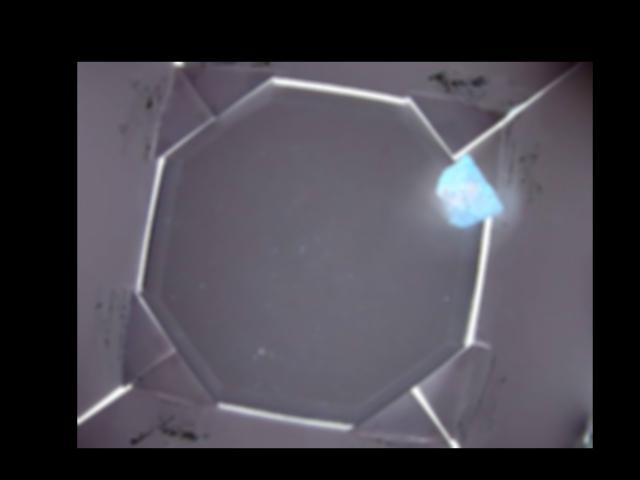Brisk: (434, 152, 504, 226)
